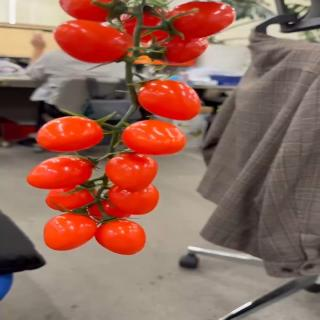tomato: (52, 19, 133, 62), (161, 0, 235, 40), (137, 80, 204, 122), (26, 156, 96, 191), (36, 116, 104, 152), (121, 119, 187, 156), (43, 212, 98, 252), (105, 153, 159, 192), (94, 217, 146, 254), (108, 181, 161, 215), (44, 182, 98, 214), (120, 3, 167, 38), (58, 0, 122, 23), (163, 36, 209, 66)
